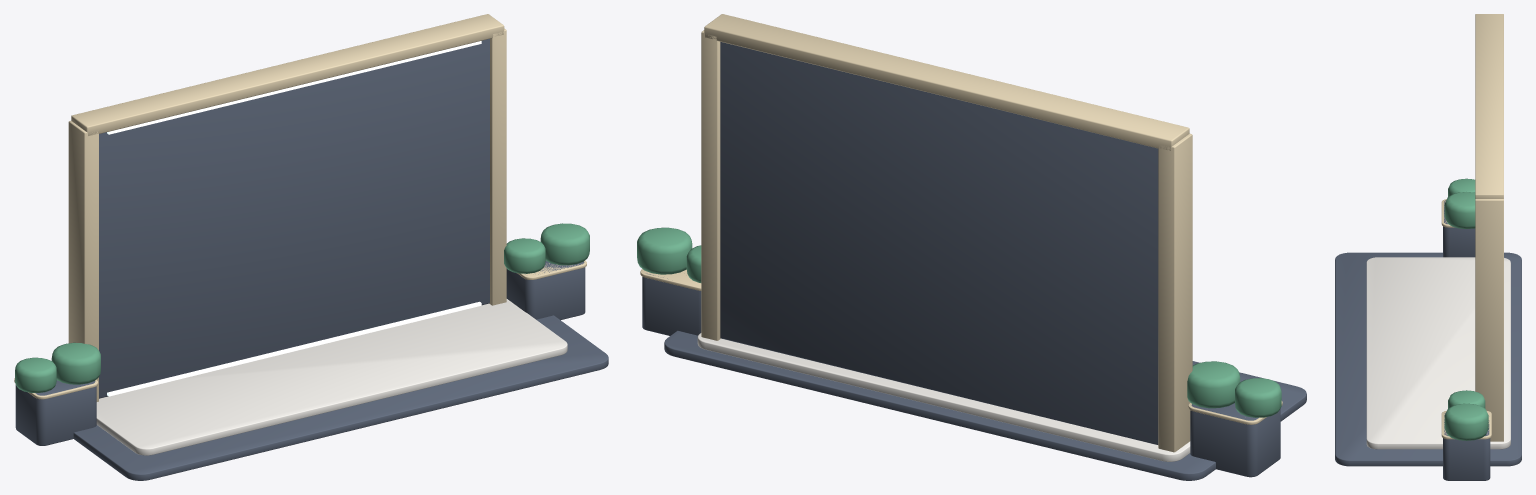
The model's file is checkin_stage_v27_3.glb.
3 renders of one model, left to right at view 1: azimuth 30°, elevation 25°; view 2: azimuth 150°, elevation 25°; view 3: azimuth 270°, elevation 25°, orthographic. The views are drawn at different scales.
Parts seen in each view (by area): view 1: V273_CheckInStage_CheckIn_Graphite, V273_CheckInStage_CheckIn_Cream, V273_CheckInStage_CheckIn_Champagne, V273_CheckInStage_CheckIn_Foliage, V273_CheckInStage_CheckIn_Cyan_LED; view 2: V273_CheckInStage_CheckIn_Graphite, V273_CheckInStage_CheckIn_Champagne, V273_CheckInStage_CheckIn_Cream, V273_CheckInStage_CheckIn_Foliage; view 3: V273_CheckInStage_CheckIn_Cream, V273_CheckInStage_CheckIn_Graphite, V273_CheckInStage_CheckIn_Champagne, V273_CheckInStage_CheckIn_Foliage.
Boxes of the visible parts, x1,y1,x2,y2 form: V273_CheckInStage_CheckIn_Graphite: [15, 39, 608, 480]; V273_CheckInStage_CheckIn_Cream: [96, 299, 567, 455]; V273_CheckInStage_CheckIn_Champagne: [14, 14, 586, 401]; V273_CheckInStage_CheckIn_Foliage: [15, 223, 589, 392]; V273_CheckInStage_CheckIn_Cyan_LED: [107, 41, 481, 396]; V273_CheckInStage_CheckIn_Graphite: [642, 42, 1306, 480]; V273_CheckInStage_CheckIn_Champagne: [640, 14, 1282, 452]; V273_CheckInStage_CheckIn_Cream: [697, 333, 1190, 461]; V273_CheckInStage_CheckIn_Foliage: [637, 227, 1281, 417]; V273_CheckInStage_CheckIn_Cream: [1366, 257, 1510, 449]; V273_CheckInStage_CheckIn_Graphite: [1335, 200, 1521, 480]; V273_CheckInStage_CheckIn_Champagne: [1441, 14, 1503, 441]; V273_CheckInStage_CheckIn_Foliage: [1444, 178, 1488, 440].
Size of the model in its own units: 6.87 by 3.36 by 2.2.
